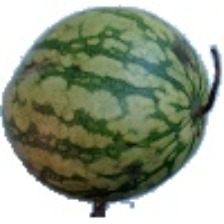watermelon: (53, 0, 201, 194)
